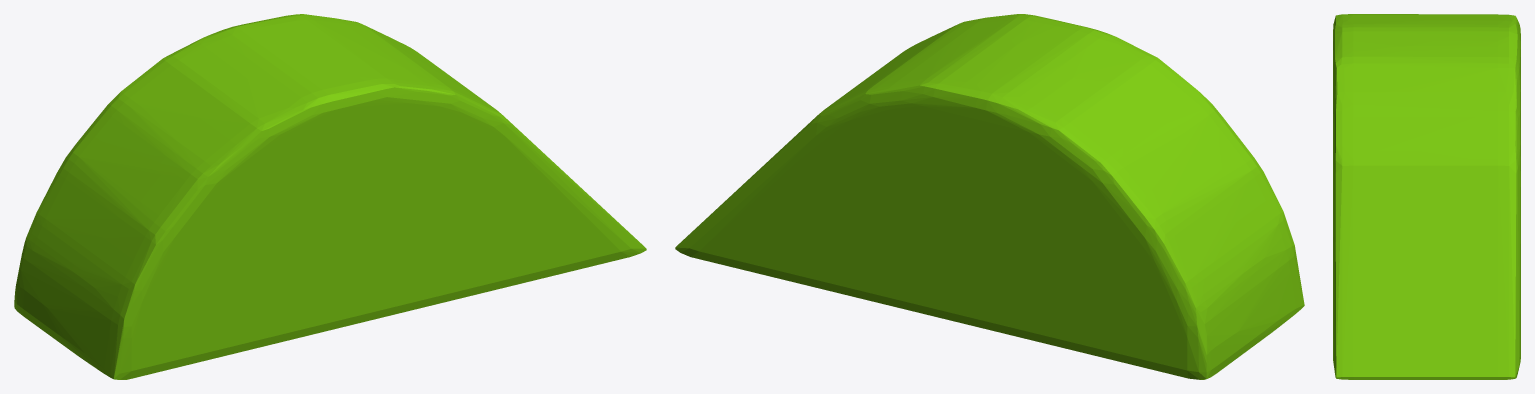
Rendered from left-tarsus-0_part_4.obj.
3 renders of one model, left to right at view 1: azimuth 30°, elevation 25°; view 2: azimuth 150°, elevation 25°; view 3: azimuth 270°, elevation 25°, orthographic. The views are drawn at different scales.
Size of the model in its own units: 0.0592 by 0.0251 by 0.0199.
